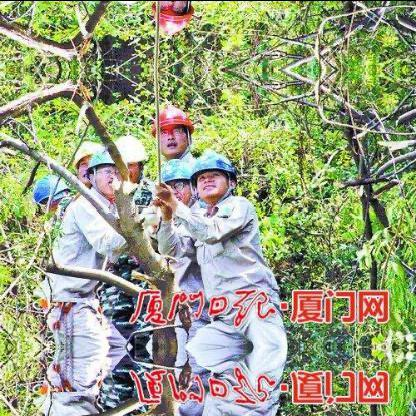Helmet: (181, 147, 239, 203), (80, 138, 132, 195), (149, 102, 197, 160), (148, 0, 198, 35), (32, 176, 72, 216), (113, 135, 147, 181), (158, 156, 190, 203), (70, 139, 96, 179)
